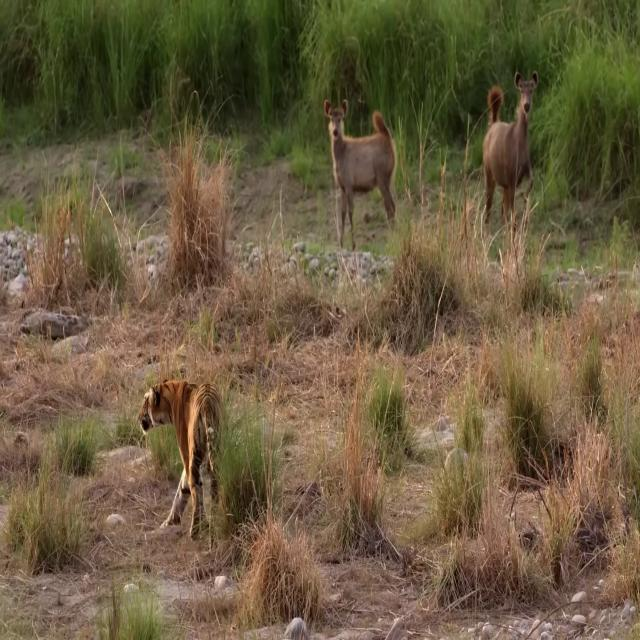tiger: (138, 378, 229, 540)
